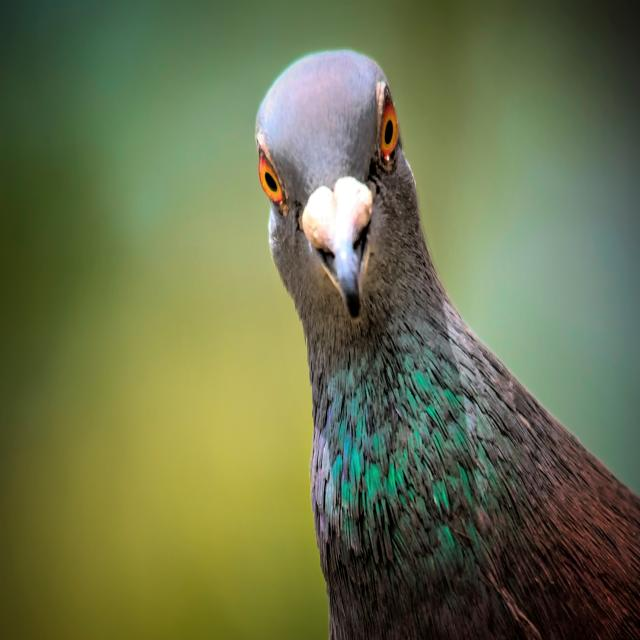Pigeon: (251, 44, 640, 640)
